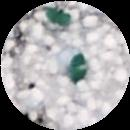Basil: (70, 51, 91, 84), (50, 6, 71, 28)
